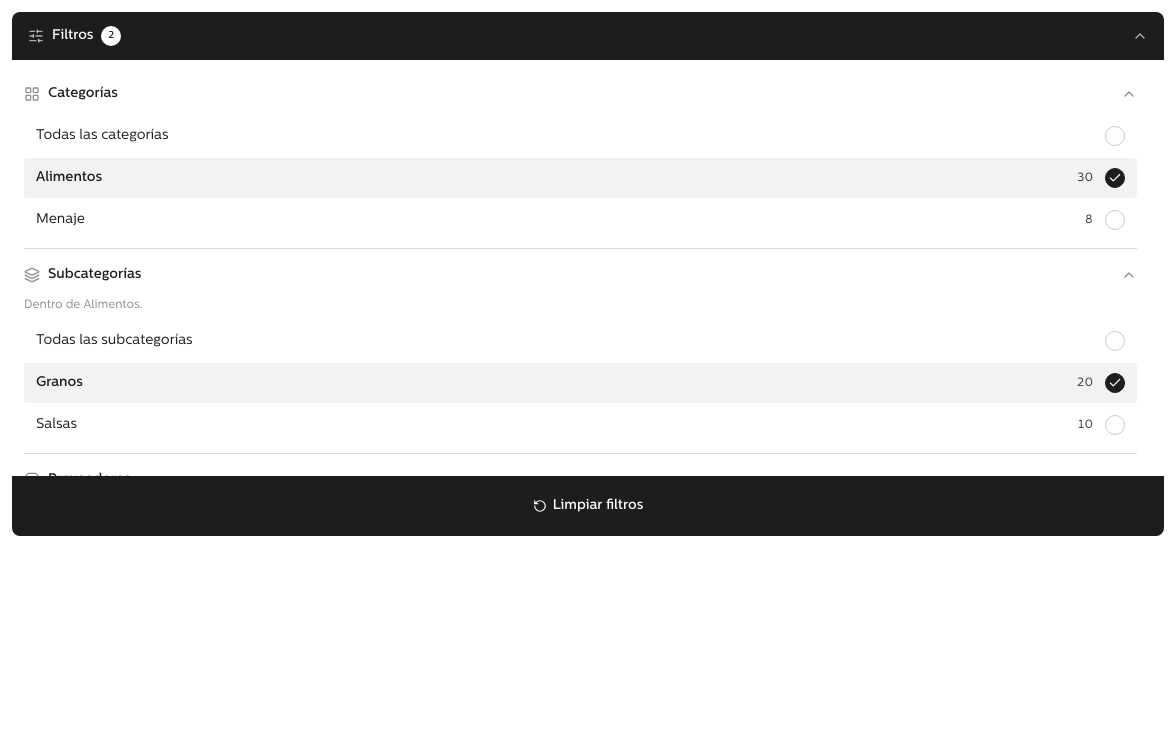
Scenario: categorías y subcategorías › cuenta categoría y subcategoría como filtros activos y Limpiar los reinicia
The width and height of the screenshot is (1176, 732).
Expected: the text "2" is shown, [102, 26, 122, 46]
Click the button "Limpiar filtros": (588, 506) [28, 488, 1148, 524]
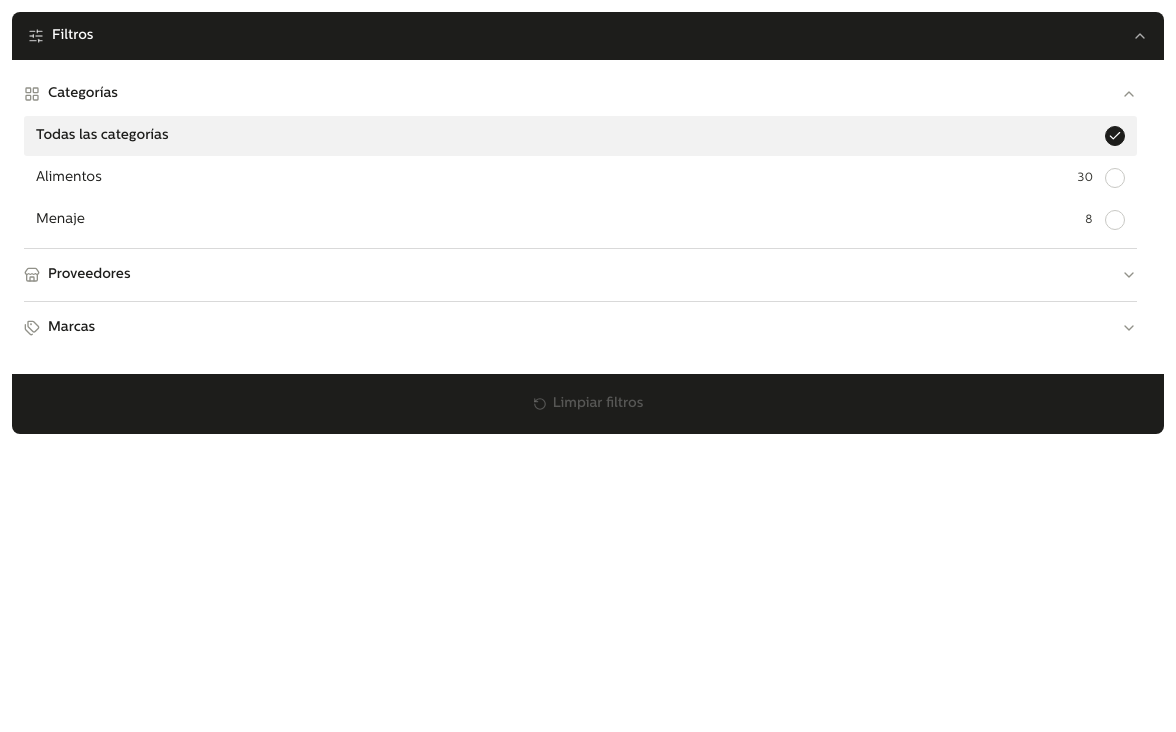
Expected: the button "Todas las categorías" is shown, [24, 116, 1137, 156]
Now the button "Subcategorías" is gone
